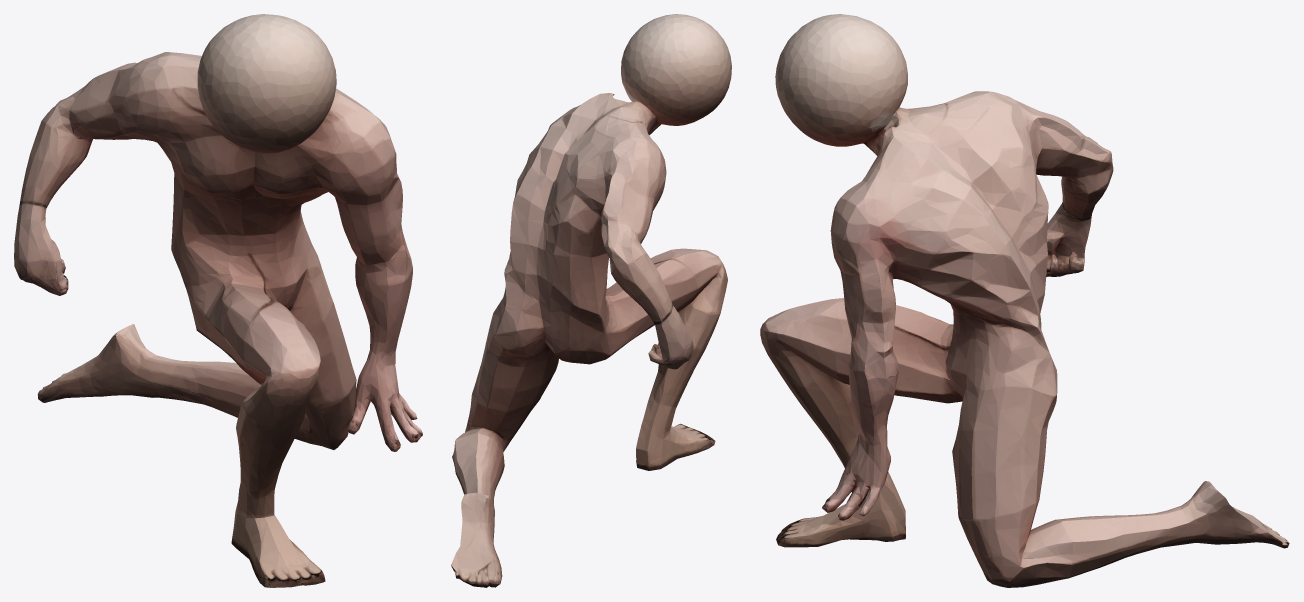
File: condition.glb
The picture shows the model from 3 angles, left to right: view 1: azimuth 30°, elevation 25°; view 2: azimuth 150°, elevation 25°; view 3: azimuth 270°, elevation 25°; orthographic projection. The views are drawn at different scales.
Parts seen in each view (by area): view 1: world; view 2: world; view 3: world.
Part boxes in pixels (x1,y1,x2,y2): world: (14,14,422,587); world: (451,14,731,587); world: (760,14,1289,587).
Bounding box in the file's own units: 0.5817 × 0.9967 × 0.9234.
1 material, 1 textured.
